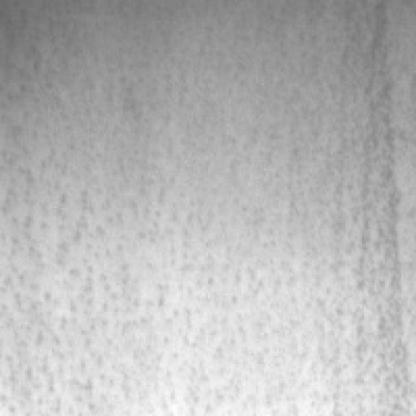pitted_surface: (10, 116, 364, 414), (347, 0, 406, 412)
